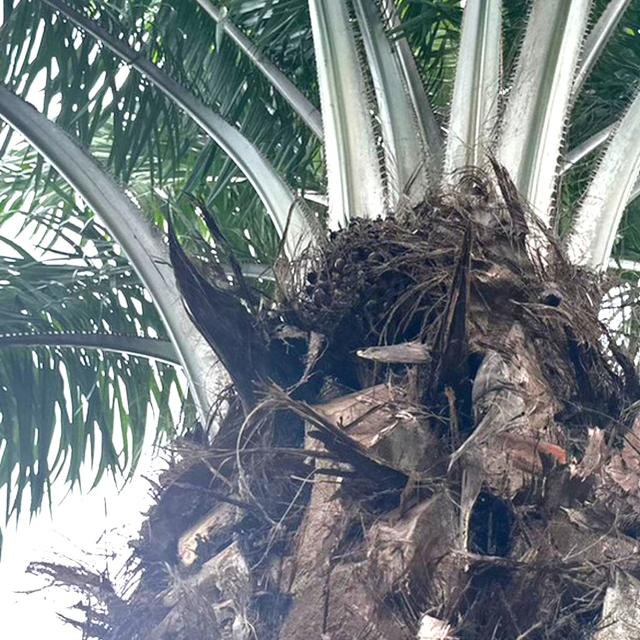almost: (291, 226, 474, 358)
